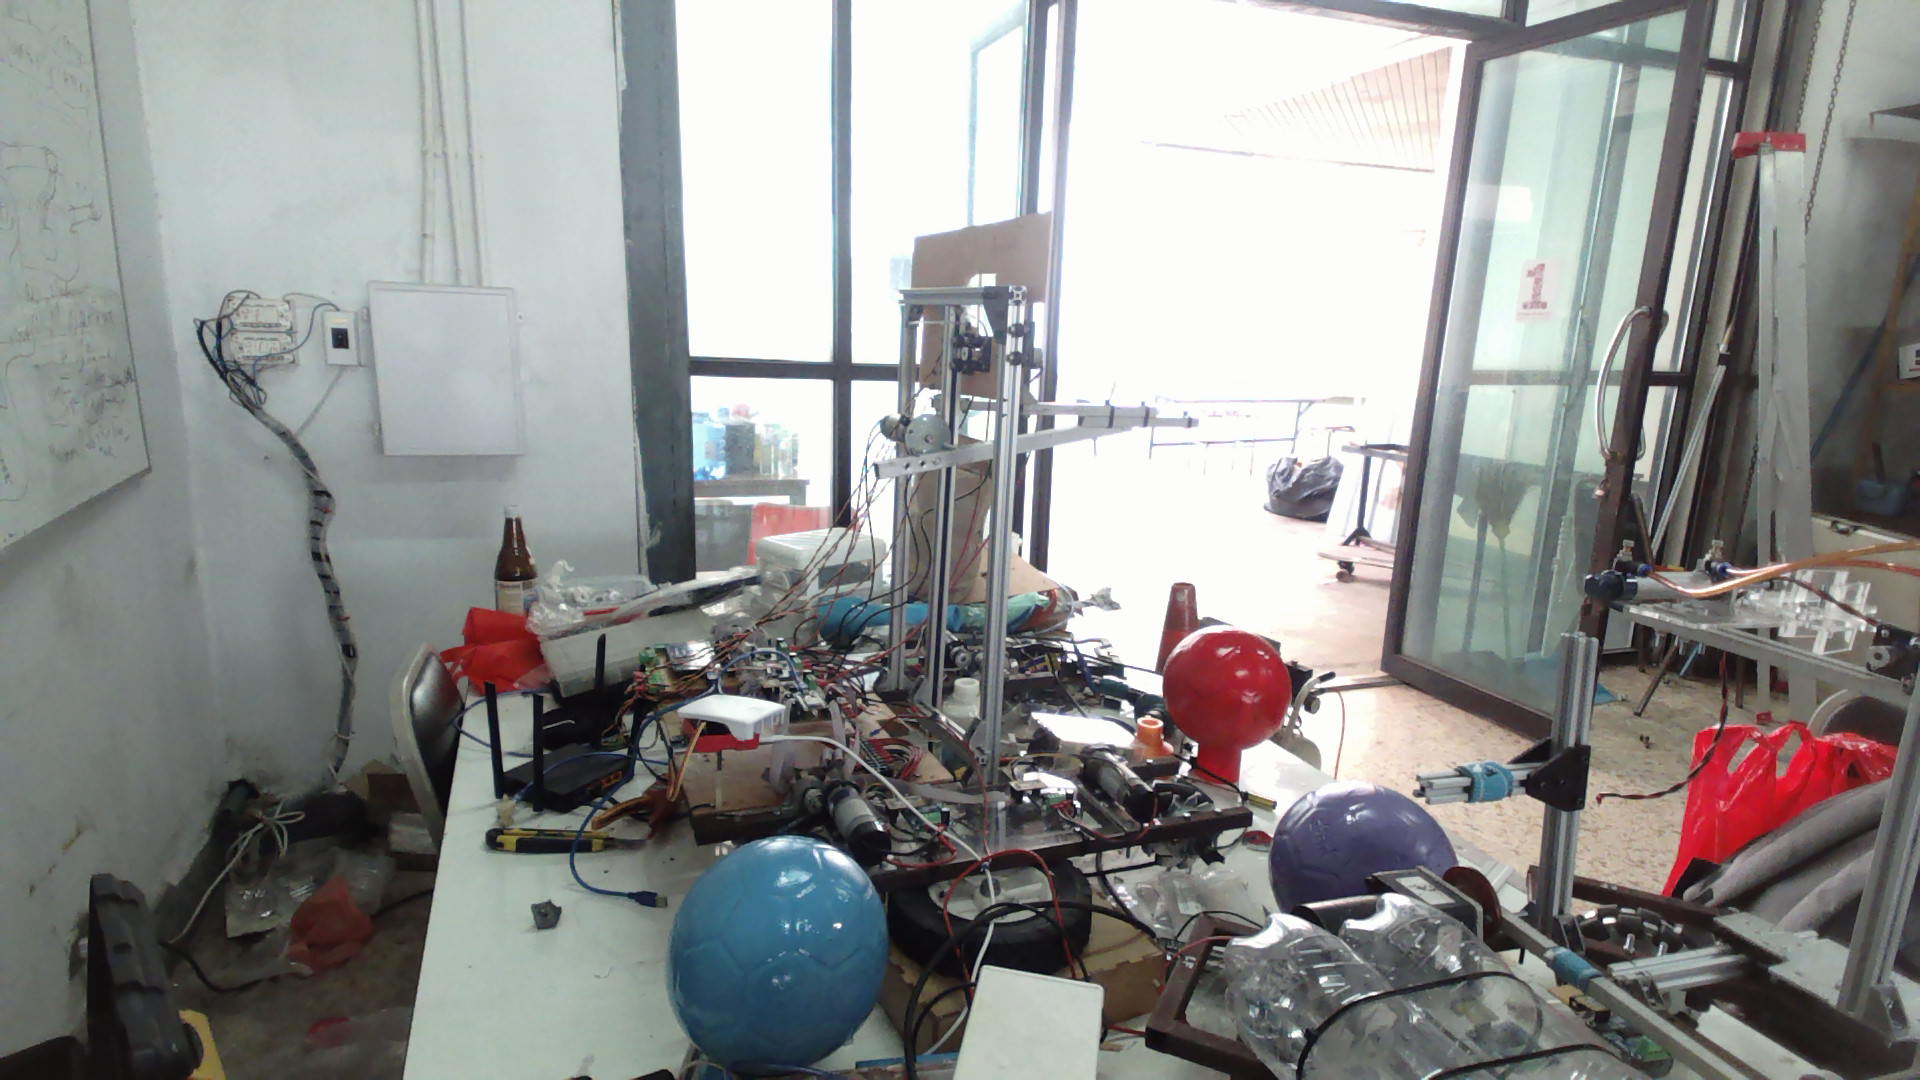Blue ball: (661, 832, 891, 1068)
Purple ball: (1270, 782, 1458, 897)
Red ball: (1160, 622, 1294, 752)
